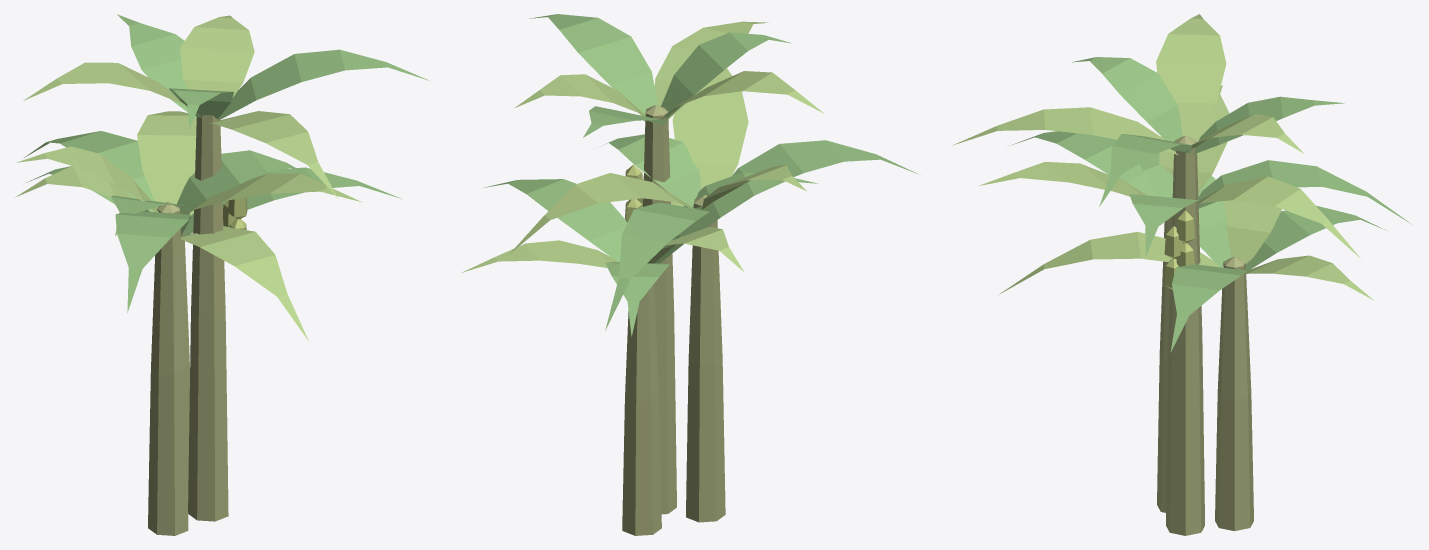
The model's file is fv_banana.glb.
3 views of the same model, side by side, from view 1: azimuth 30°, elevation 25°; view 2: azimuth 150°, elevation 25°; view 3: azimuth 270°, elevation 25° (orthographic). The views are drawn at different scales.
Visible parts, largest first — view 1: fv_banana; view 2: fv_banana; view 3: fv_banana.
Part boxes in pixels (<box>): fv_banana: <box>15,14,429,535</box>; fv_banana: <box>462,14,918,535</box>; fv_banana: <box>952,14,1412,535</box>.
Bounding box in the file's own units: 2.82 × 3.4 × 3.23.
